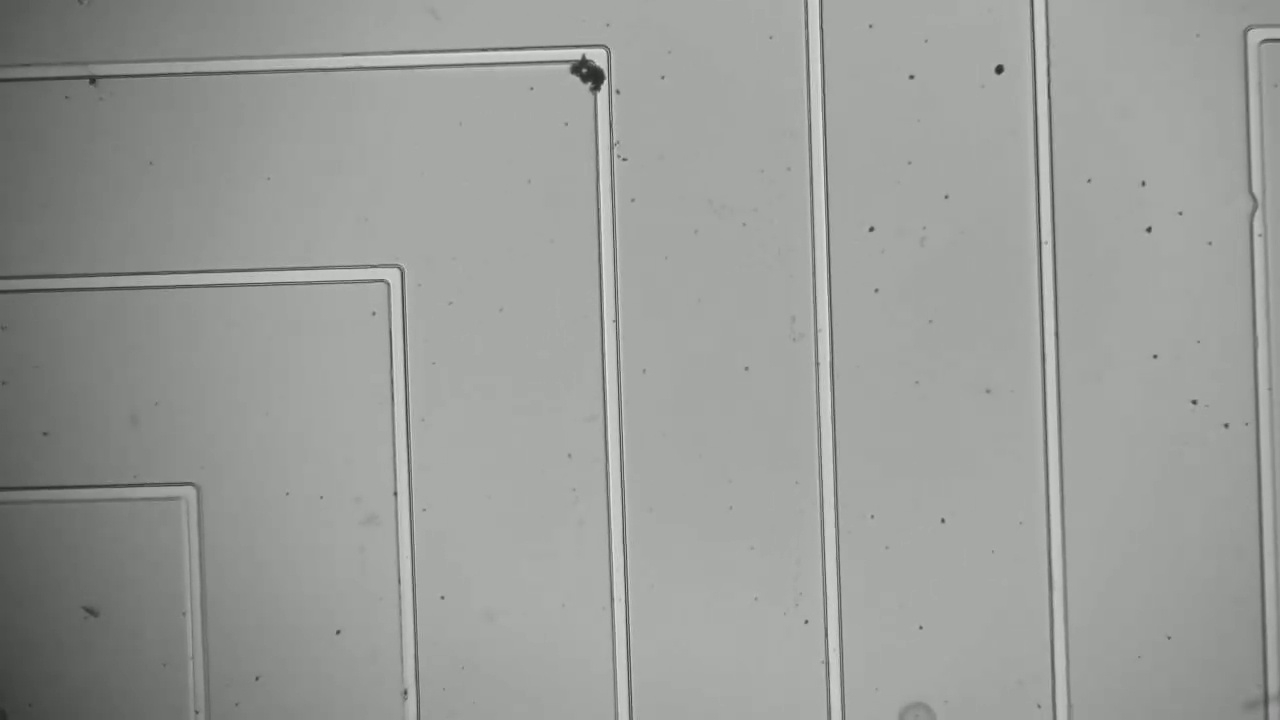edge_bite: (1241, 180, 1272, 226)
